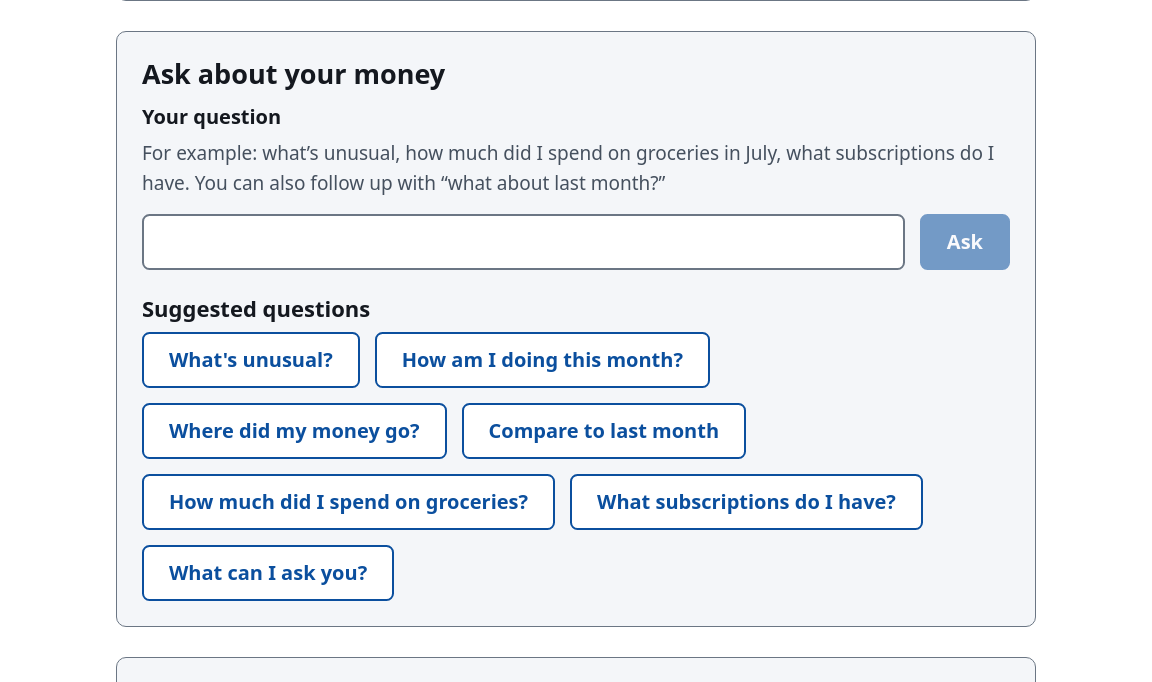
Scenario: App › shows the API error message instead of a stack when a query fails
The width and height of the screenshot is (1152, 682).
(page scrolled)
Click the button "What's unusual?": (251, 360) [142, 332, 360, 388]
(page scrolled)
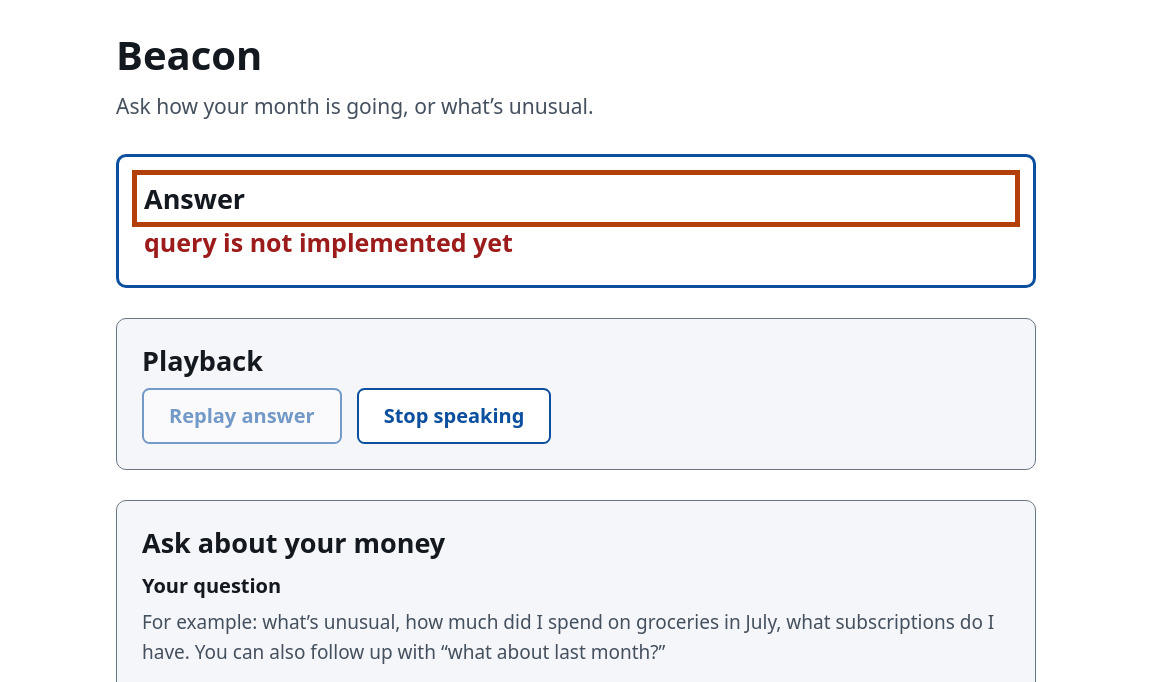
Expected: the text "query is not implemented yet" is shown, [144, 225, 513, 259]
